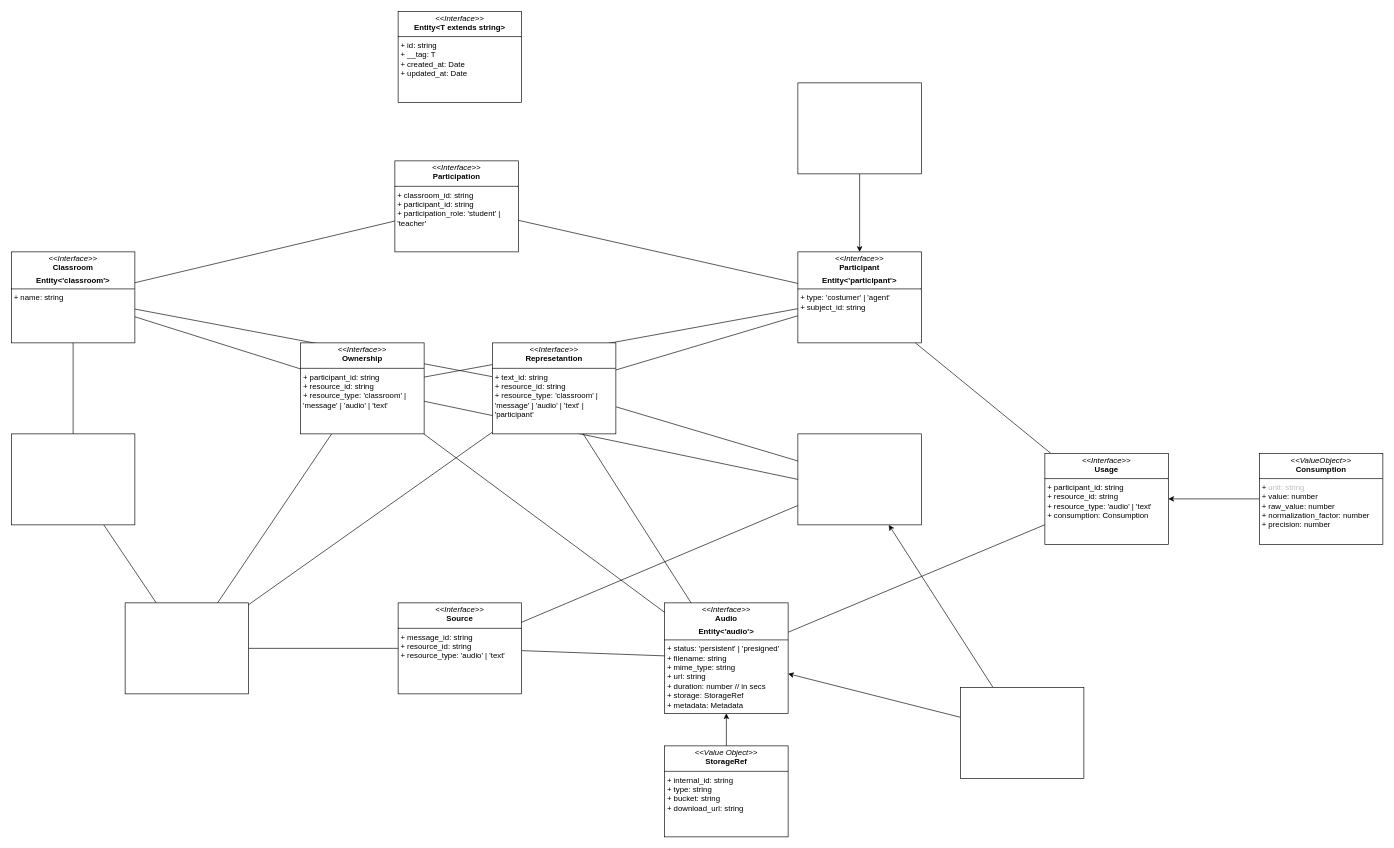
The diagram is 1394 pixels wide and 848 high, and some of its shapes have lost their labels. Each missing label, with the centre of its shape:
<<Interface>> Agent Entity<'agent'> + name: string: [859,128]
<<Interface>> Message Entity<'message'> + metadata: Metadata: [186,648]
<<Interface>> OccursIn + classroom_id: string + message_id: string: [73,479]
<<Interface>> Text Entity<'text'> + content: string + metadata: Metadata: [859,479]
<<Value Object>> Metadata + [string]: any: [1022,732]
